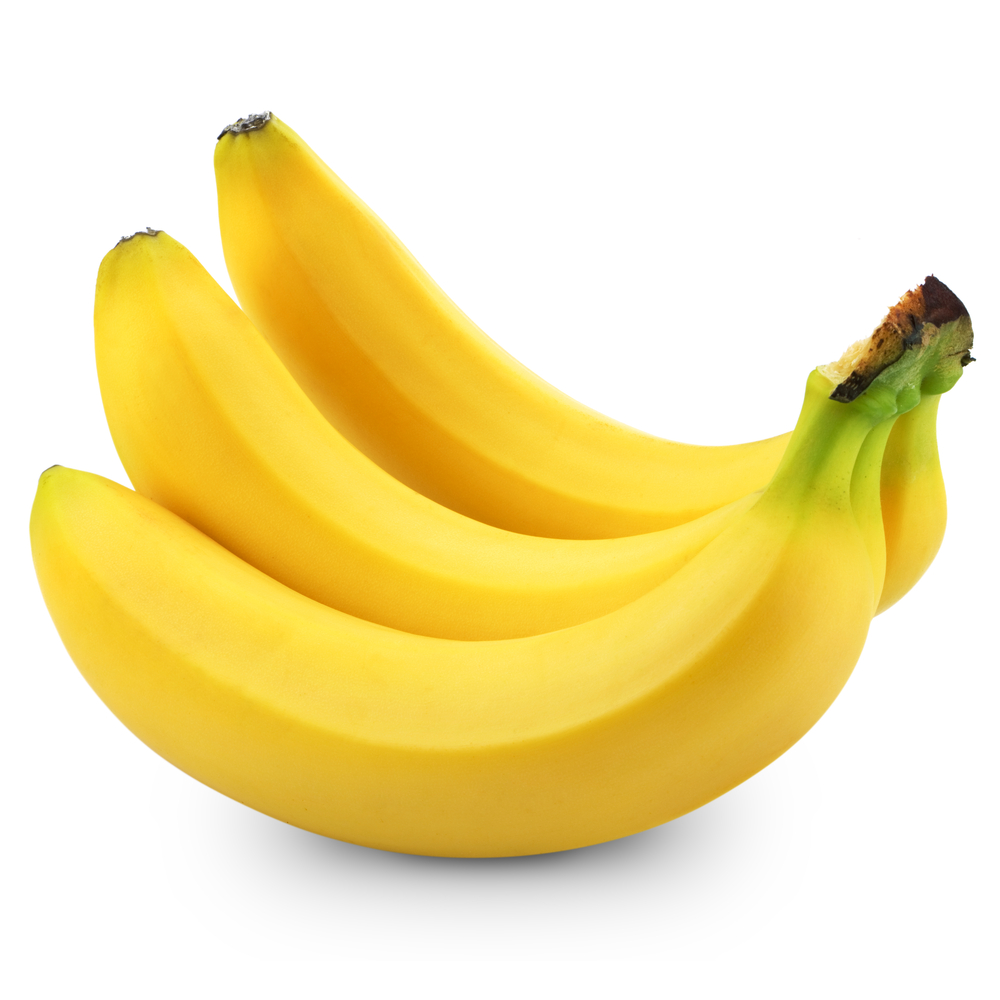banana: (212, 111, 949, 611), (66, 233, 878, 657), (23, 472, 848, 880)
